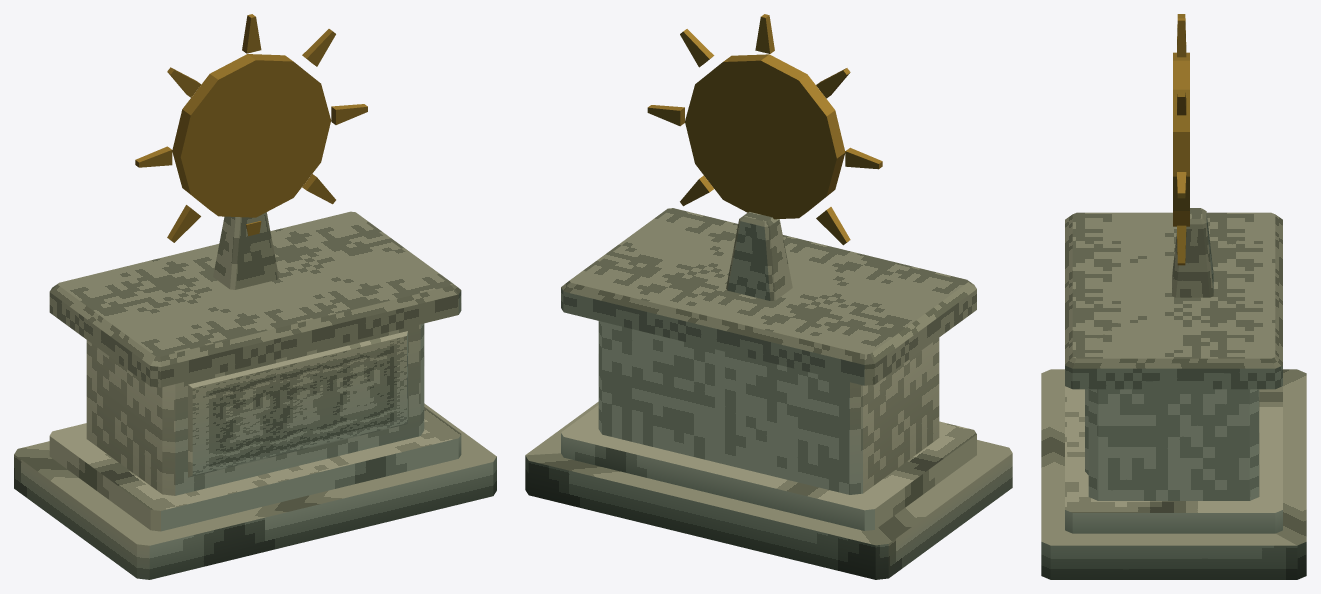
Rendered from relic.altar__sun.glb.
3 renders of one model, left to right at view 1: azimuth 30°, elevation 25°; view 2: azimuth 150°, elevation 25°; view 3: azimuth 270°, elevation 25°, orthographic.
Visible parts, largest first — view 1: kit_top, kit_base, kit_relief, kit_disc, kit_block, kit_rays, kit_stand; view 2: kit_base, kit_top, kit_block, kit_disc, kit_stand, kit_rays; view 3: kit_top, kit_base, kit_block, kit_stand, kit_disc, kit_rays.
Boxes of the visible parts, x1,y1,x2,y2 form: kit_top: (49,211,461,387); kit_base: (14,403,496,579); kit_relief: (188,331,407,477); kit_disc: (172,54,331,217); kit_block: (86,323,424,495); kit_rays: (135,14,367,242); kit_stand: (213,212,278,289); kit_base: (525,401,1012,579); kit_top: (561,208,976,385); kit_block: (598,321,939,494); kit_disc: (685,54,845,219); kit_stand: (726,212,792,300); kit_rays: (647,14,882,245); kit_top: (1065,212,1282,389); kit_base: (1041,369,1306,579); kit_block: (1088,389,1259,500); kit_stand: (1172,208,1213,297); kit_disc: (1173,52,1189,226); kit_rays: (1177,14,1186,265).
Bounding box in the file's own units: 2.2 × 2.75 × 1.4.
Materials: 5 (4 with a texture image).
